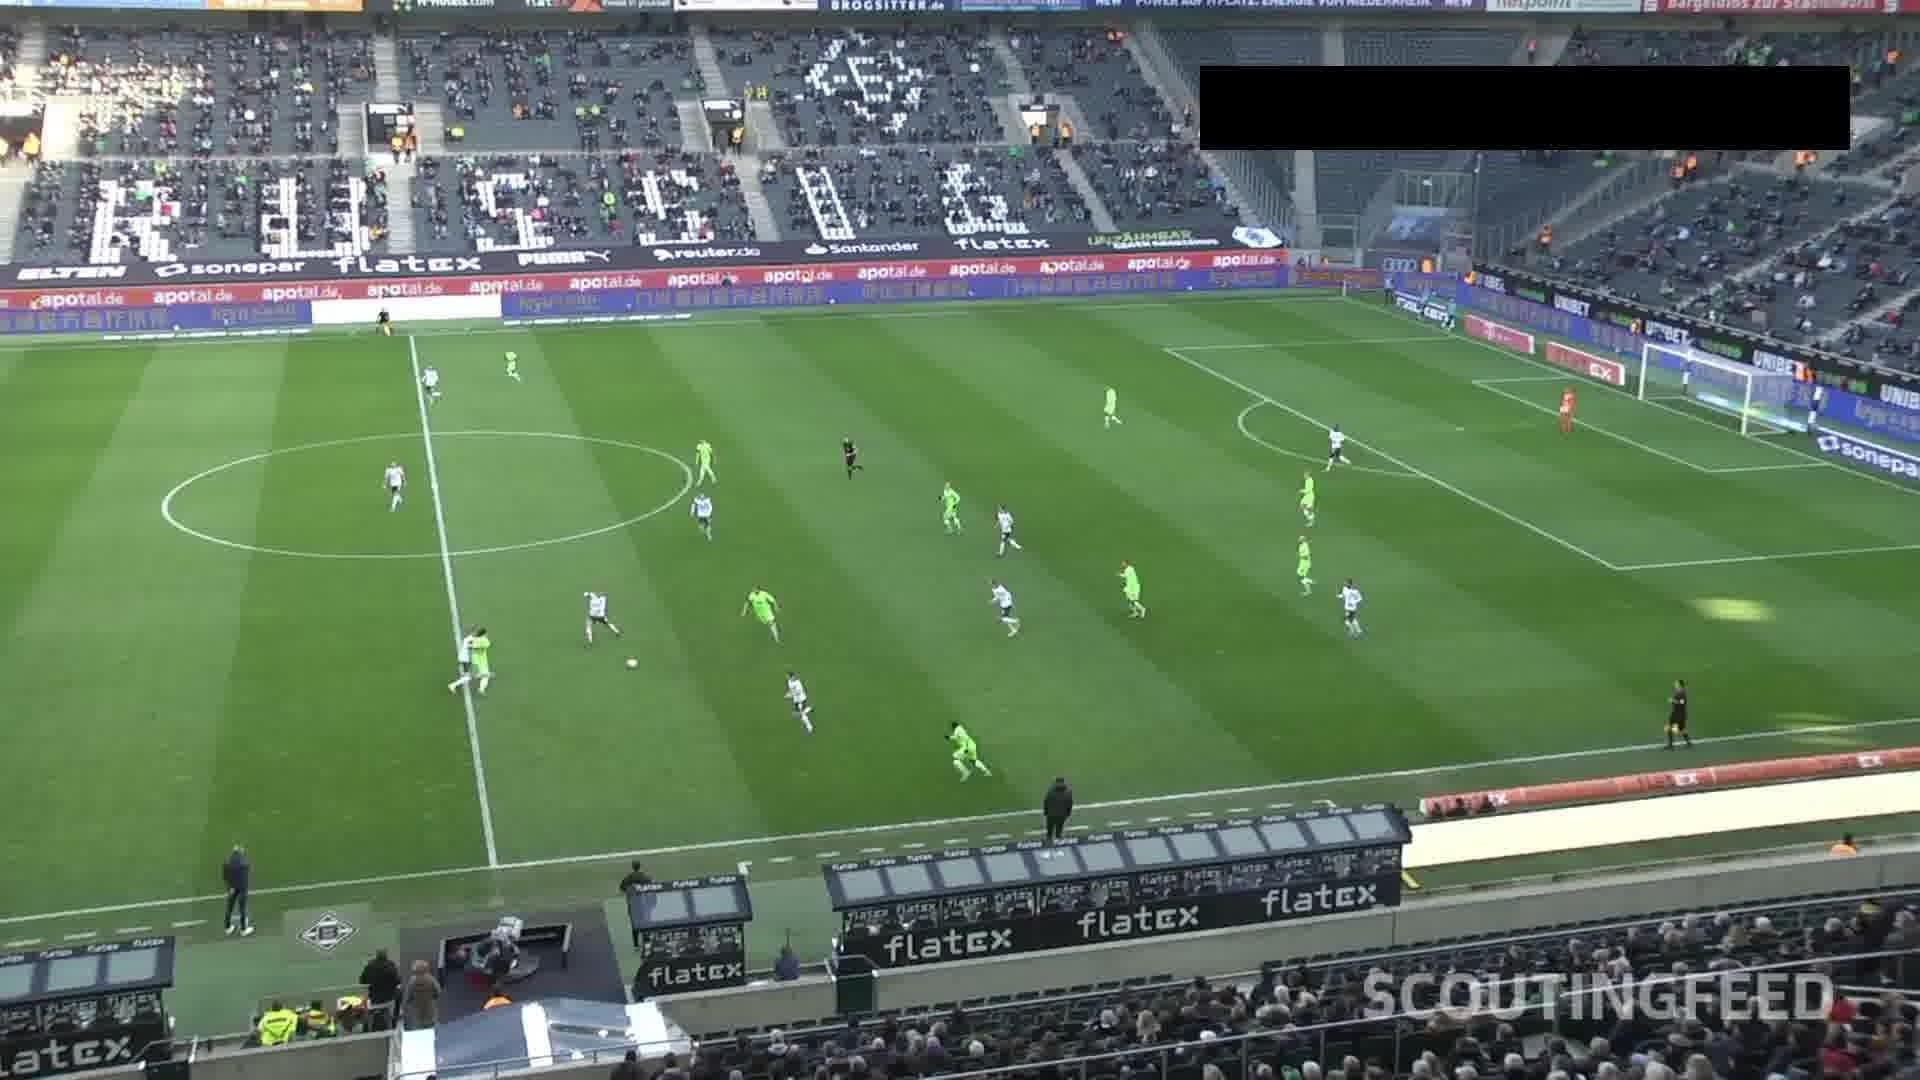football: (624, 655, 641, 671)
